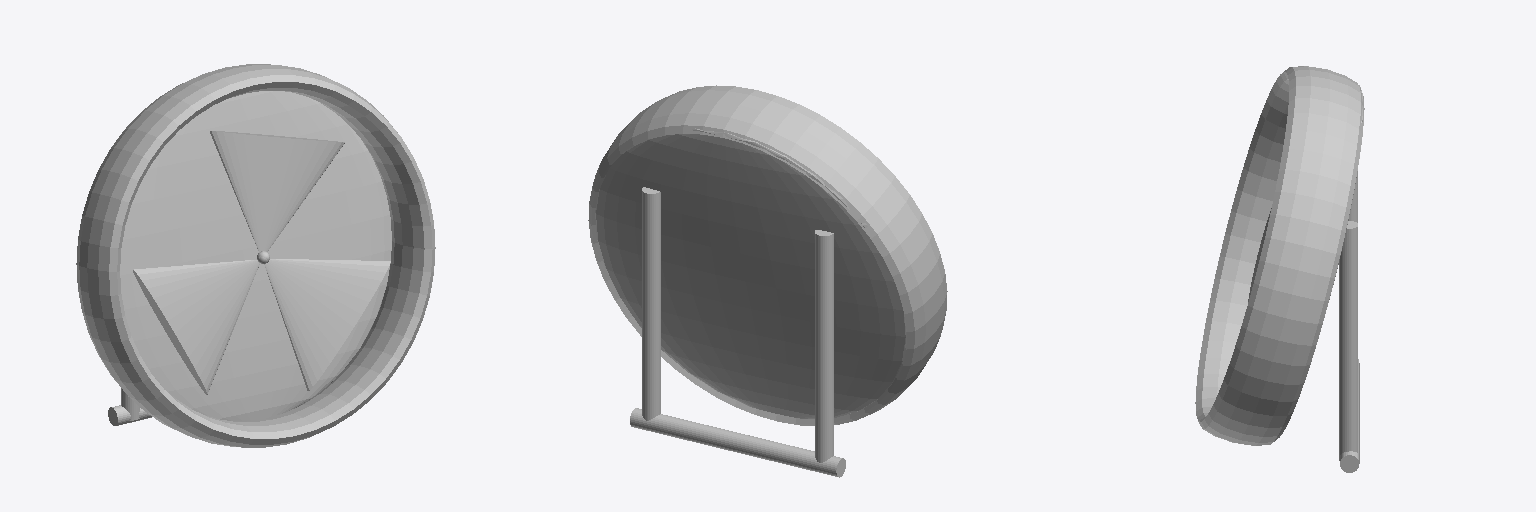
Rendered from fan_2.obj.
The picture shows the model from 3 angles: view 1: azimuth 30°, elevation 25°; view 2: azimuth 150°, elevation 25°; view 3: azimuth 270°, elevation 25°; orthographic projection.
Parts seen in each view (by area): view 1: Sphere.001, Torus.001, blade1_Cone.002, blade3_Cone.002, blade2_Cone.002; view 2: Sphere.001, Torus.001, Cylinder.002, Cylinder.001, Cylinder; view 3: Torus.001, Cylinder.001, Cylinder.
Part boxes in pixels (x1,y1,x2,y2): Sphere.001: (120, 91, 391, 420); Torus.001: (76, 64, 435, 447); blade1_Cone.002: (264, 259, 390, 390); blade3_Cone.002: (133, 260, 259, 394); blade2_Cone.002: (210, 131, 344, 252); Sphere.001: (595, 128, 905, 418); Torus.001: (588, 85, 947, 425); Cylinder.002: (815, 230, 833, 462); Cylinder.001: (642, 187, 660, 420); Cylinder: (630, 408, 845, 477); Torus.001: (1195, 66, 1364, 445); Cylinder.001: (1339, 221, 1357, 460); Cylinder: (1340, 359, 1359, 472).
Bounding box in the file's own units: 1.18 × 1.16 × 0.5161.